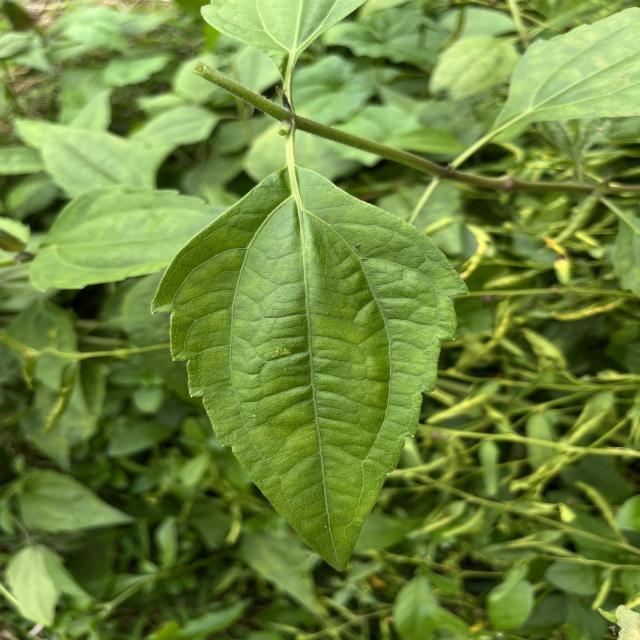Chromolaena odorata: (142, 158, 482, 580)
